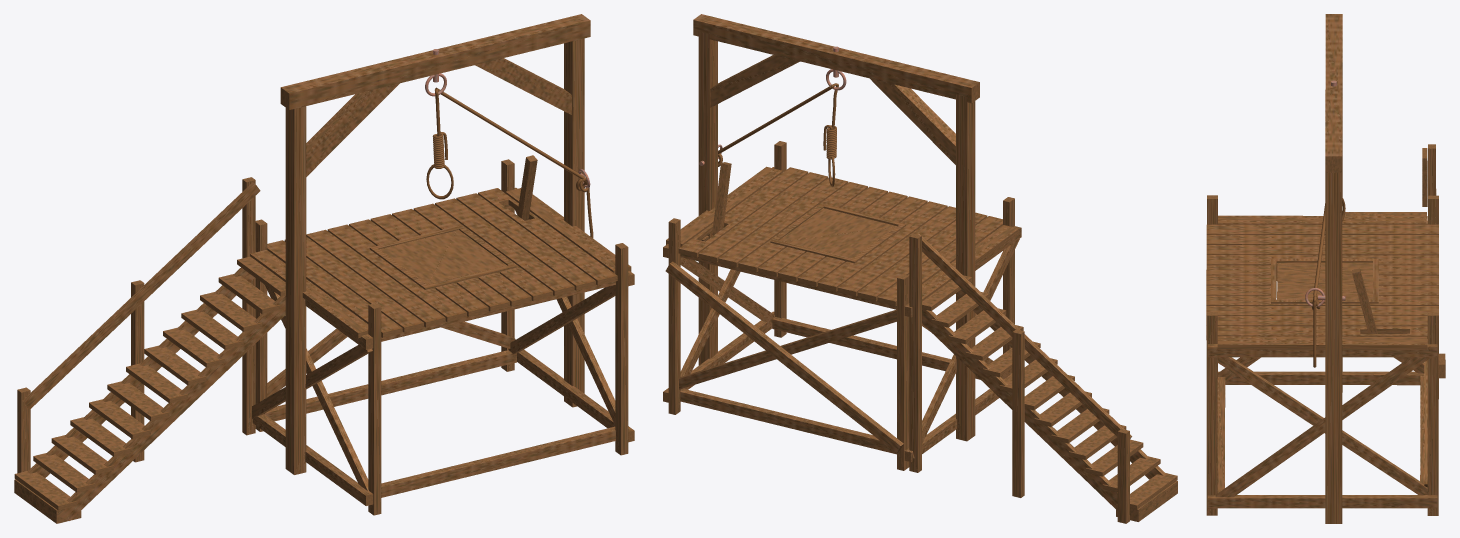
Rendered from WoodGallows.obj.
3 views of the same model, side by side, from view 1: azimuth 30°, elevation 25°; view 2: azimuth 150°, elevation 25°; view 3: azimuth 270°, elevation 25° (orthographic). The views are drawn at different scales.
Visible parts, largest first — view 1: WoodGallows, Cube, TieOffRope; view 2: WoodGallows, Cube; view 3: WoodGallows, Cube, TieOffRope.
Boxes of the visible parts, x1,y1,x2,y2 form: WoodGallows: (14, 14, 634, 523); Cube: (379, 230, 506, 284); TieOffRope: (434, 87, 584, 179); WoodGallows: (663, 14, 1177, 523); Cube: (779, 208, 896, 258); WoodGallows: (1206, 14, 1445, 523); Cube: (1277, 262, 1372, 299); TieOffRope: (1313, 203, 1325, 296).
Bounding box in the file's own units: 466 × 329 × 190.
